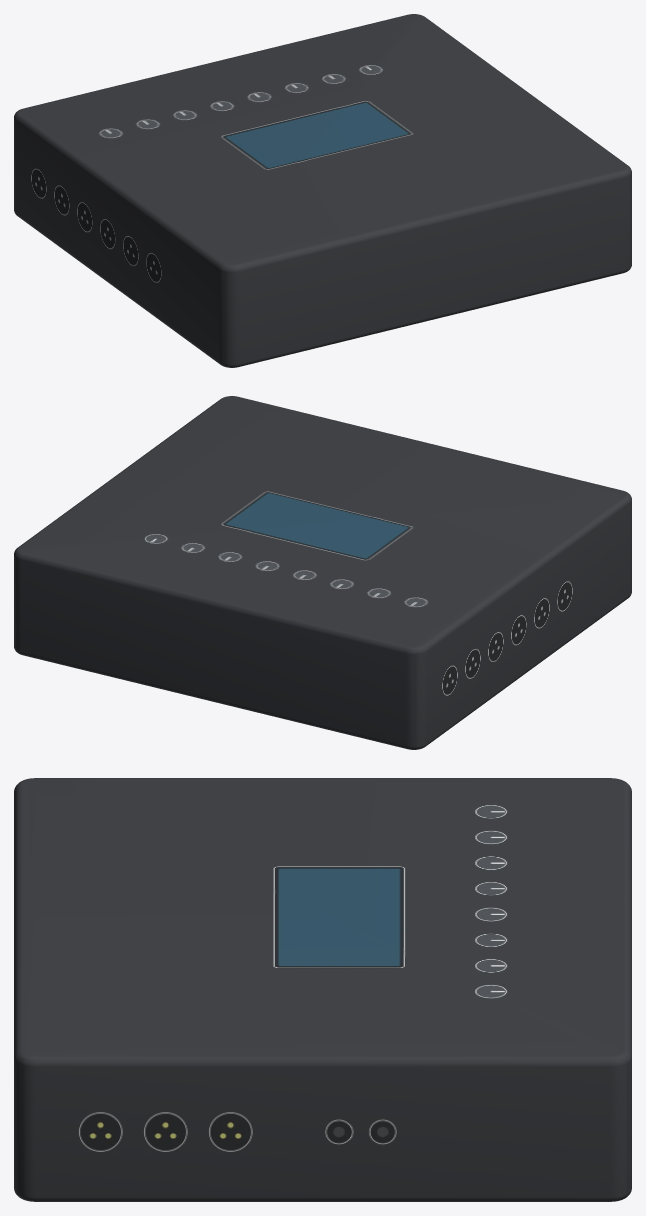
Rendered from nagra-vi.glb.
3 views of the same model, one above another, from view 1: azimuth 30°, elevation 25°; view 2: azimuth 150°, elevation 25°; view 3: azimuth 270°, elevation 25° (orthographic). The views are drawn at different scales.
Visible parts, largest first — view 1: nagra-vi-body; view 2: nagra-vi-body; view 3: nagra-vi-body.
Part boxes in pixels (x1,y1,x2,y2): nagra-vi-body: (14, 14, 631, 367); nagra-vi-body: (14, 396, 631, 749); nagra-vi-body: (14, 778, 631, 1201).
Bounding box in the file's own units: 0.31 × 0.074 × 0.285.
1 material, 1 textured.
